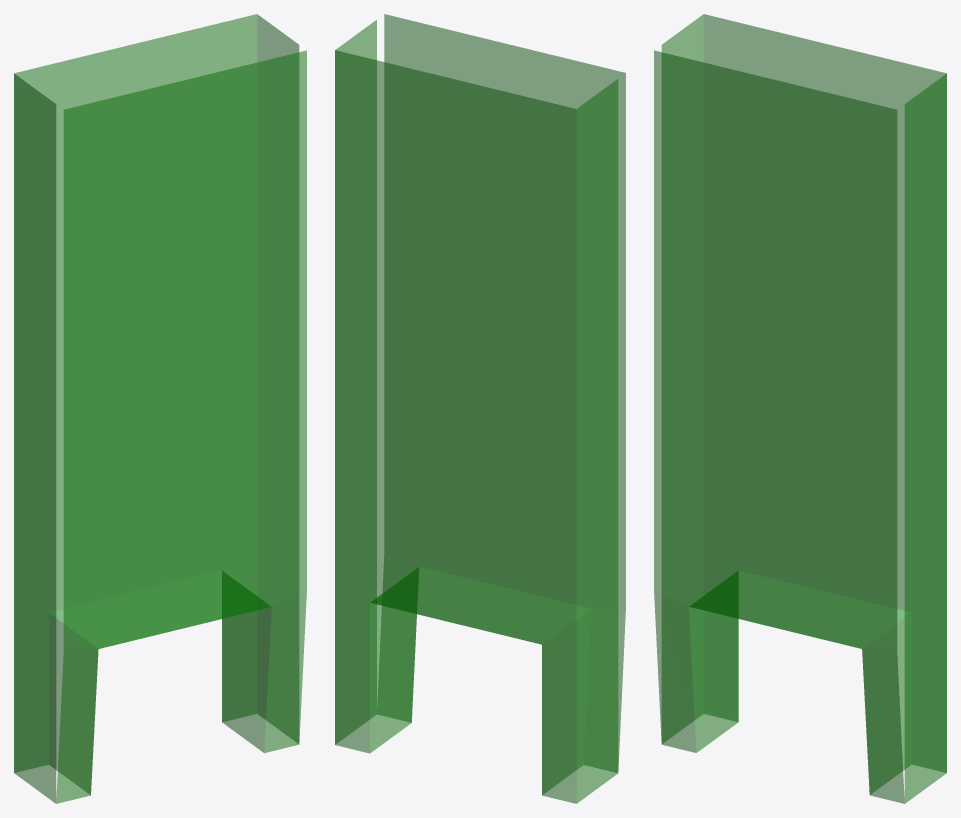
File: D10_wall04.obj
3 renders of one model, left to right at view 1: azimuth 30°, elevation 25°; view 2: azimuth 150°, elevation 25°; view 3: azimuth 330°, elevation 25°, orthographic.
Size of the model in its own units: 8 by 22 by 2.83.
